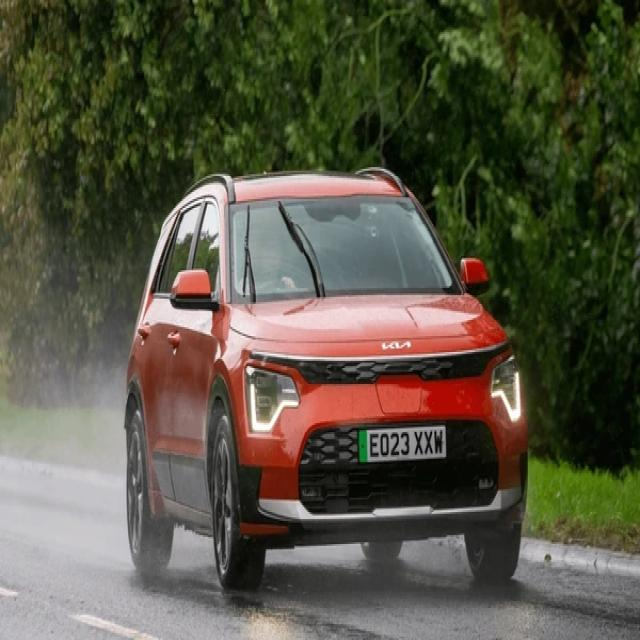kia: (380, 335, 412, 354)
